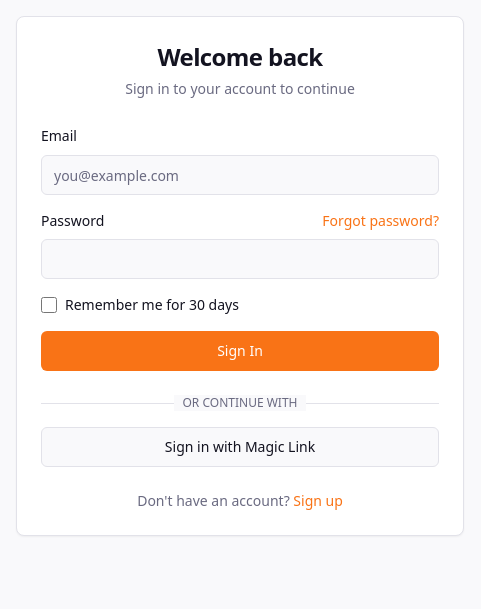
Test: LoginPage › shows validation error for empty form submit
Click the button "Sign In" at (240, 351), box left=41, top=331, right=439, bottom=371
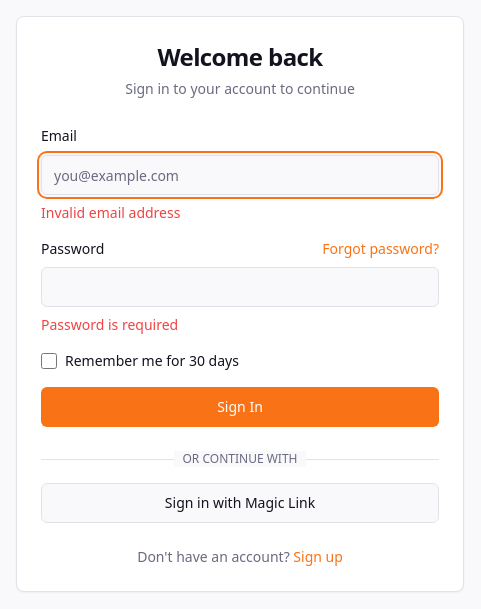
Expected: the text "Invalid email address" is shown, left=41, top=203, right=180, bottom=222
